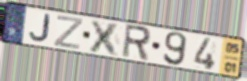4: (193, 36, 217, 71)
9: (163, 31, 188, 68)
J: (28, 13, 52, 44)
R: (120, 23, 152, 63)
X: (87, 18, 123, 59)
Z: (52, 14, 85, 51)
